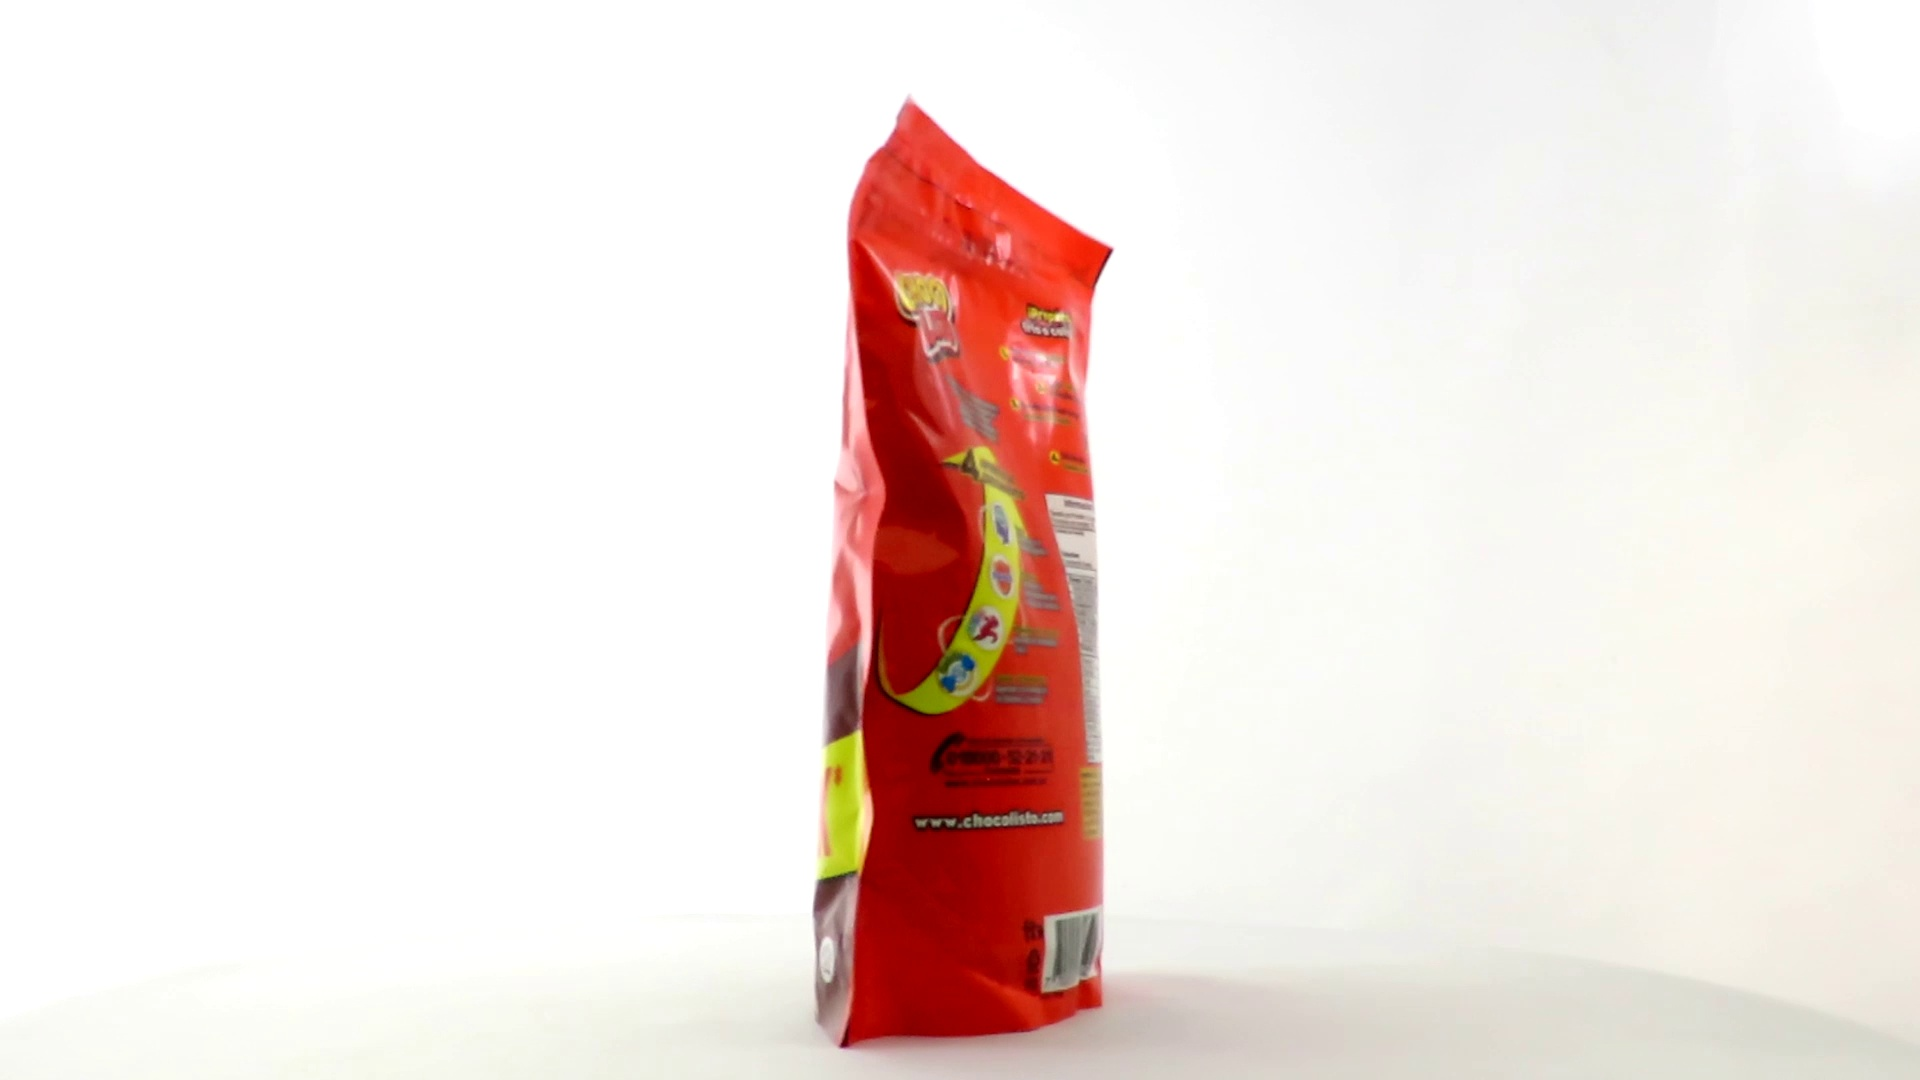COL0170103DYP36000: (808, 88, 1120, 1055)
